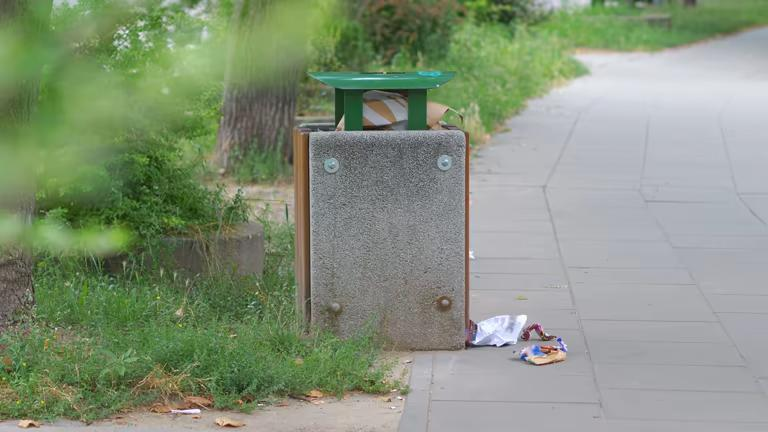trash: (312, 88, 466, 136), (463, 310, 527, 348), (517, 335, 570, 367), (516, 316, 554, 343)
trash_can_overflow: (283, 52, 564, 372)
